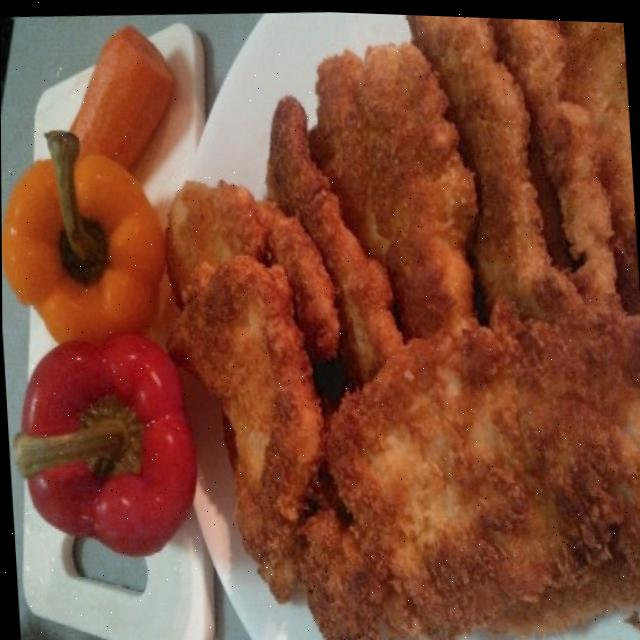鸡肉料理 含炸鸡: (160, 5, 638, 640)
